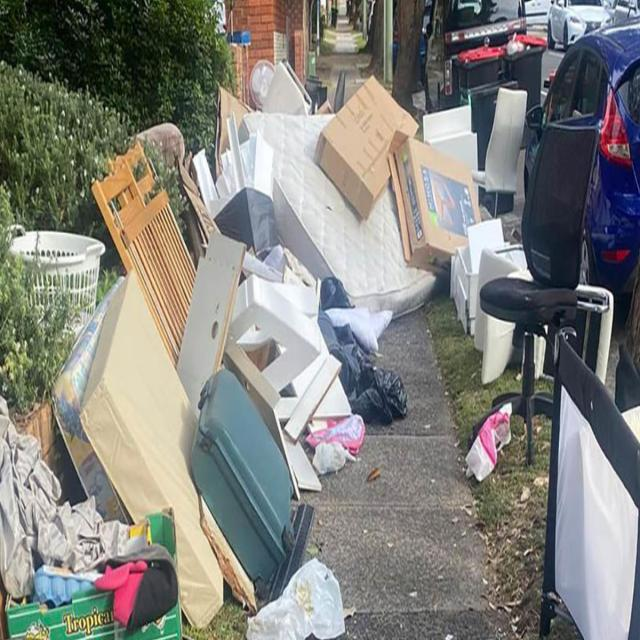dumping: (12, 76, 488, 640)
